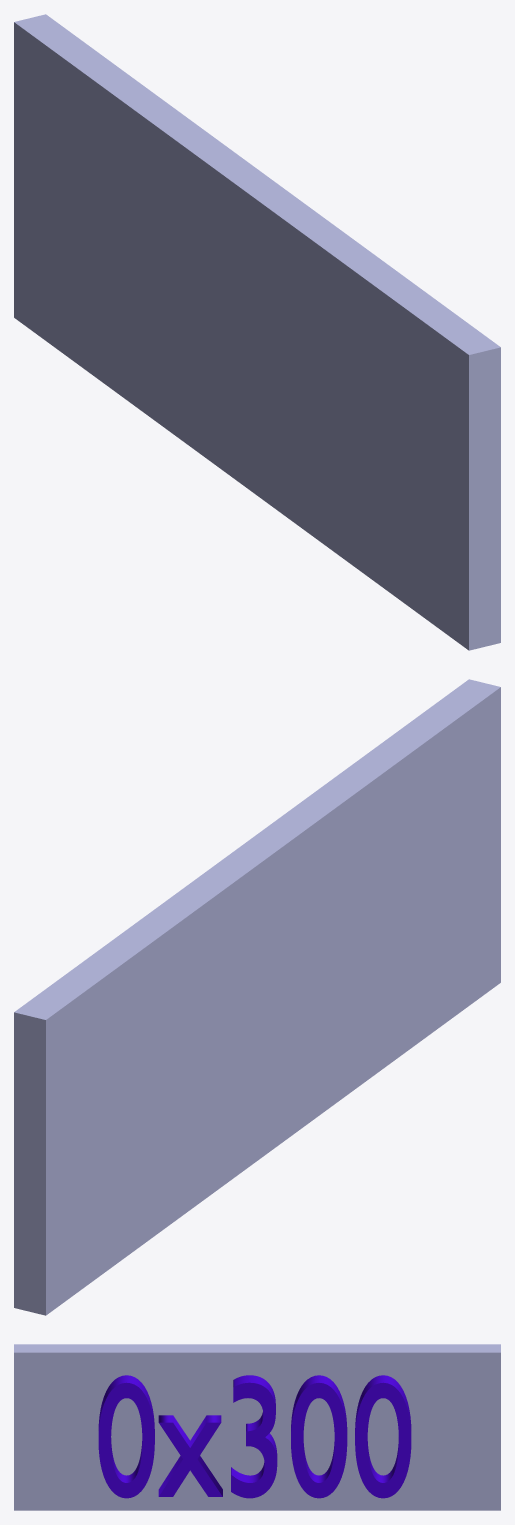
The picture shows the model from 3 angles, top to bottom: view 1: azimuth 30°, elevation 25°; view 2: azimuth 150°, elevation 25°; view 3: azimuth 270°, elevation 25°; orthographic projection. The views are drawn at different scales.
Parts seen in each view (by area): view 1: Cube; view 2: Cube; view 3: Cube, Text.
Part boxes in pixels (x1,y1,x2,y2): Cube: (14, 14, 500, 650); Cube: (14, 679, 500, 1315); Cube: (14, 1344, 500, 1510); Text: (98, 1375, 411, 1498).
Bounding box in the file's own units: 2.65 × 12.33 × 34.39.
